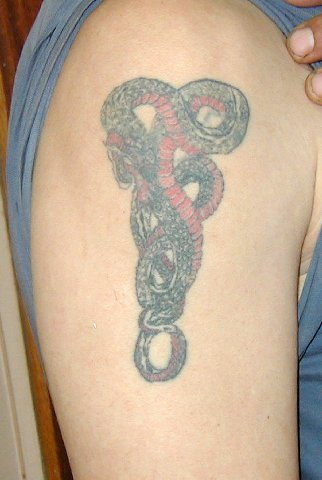tatu7_zmeya: (104, 39, 239, 408)
